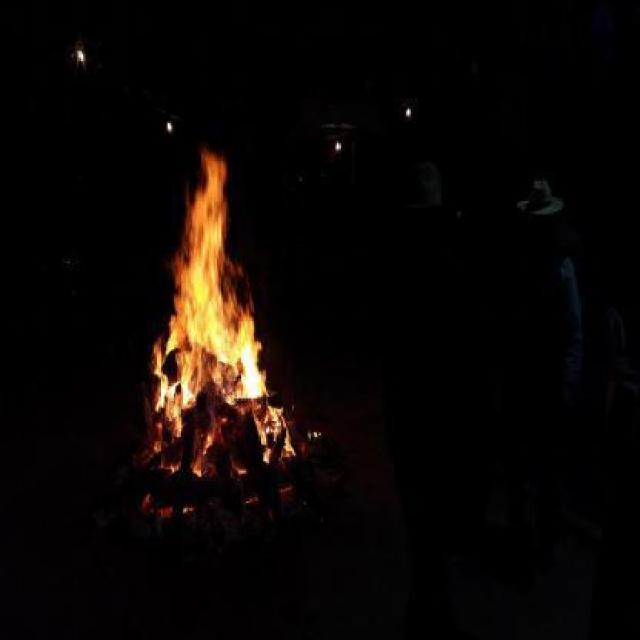Fire: (140, 148, 299, 483), (190, 409, 228, 480)
